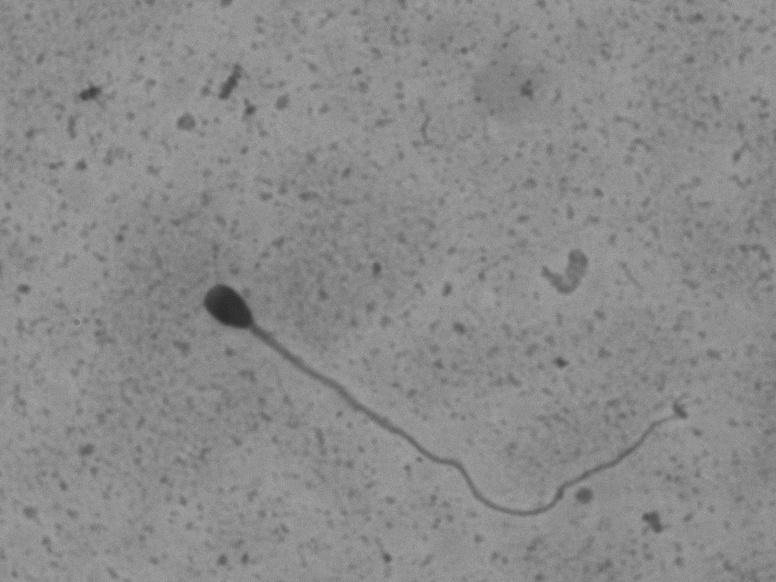Normal: (145, 228, 691, 527)
